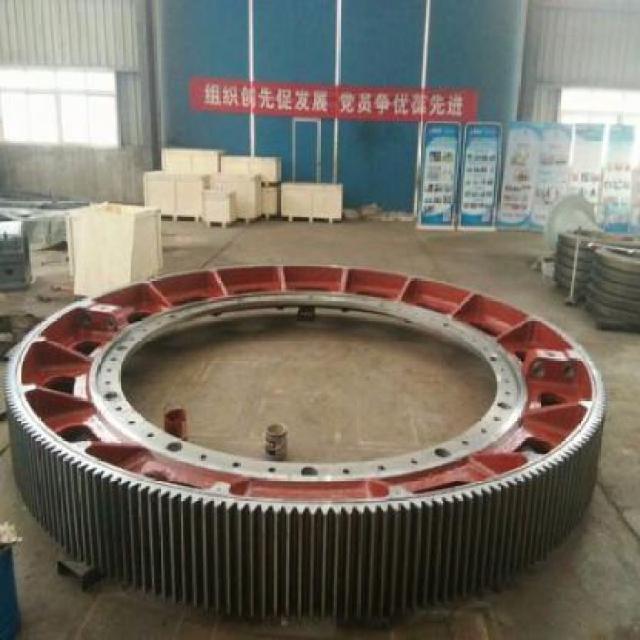Gear: (0, 260, 611, 623)
